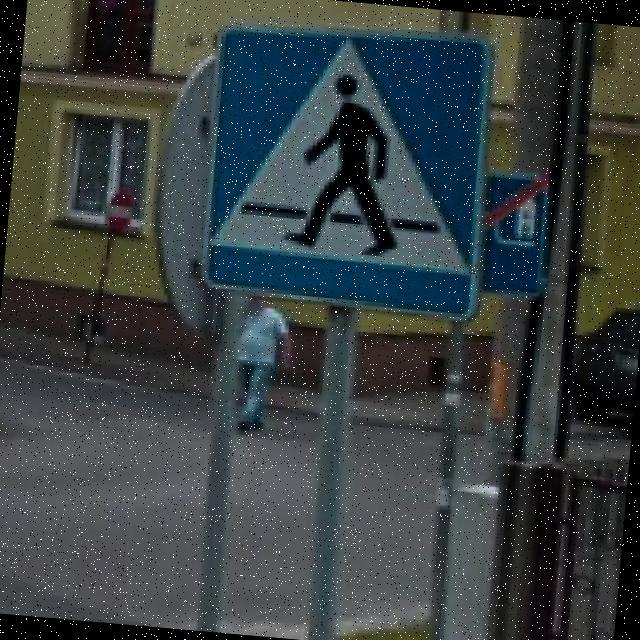Przejscie dla pieszych: (192, 10, 502, 322)
Zakaz wjazdu: (104, 188, 136, 234)
